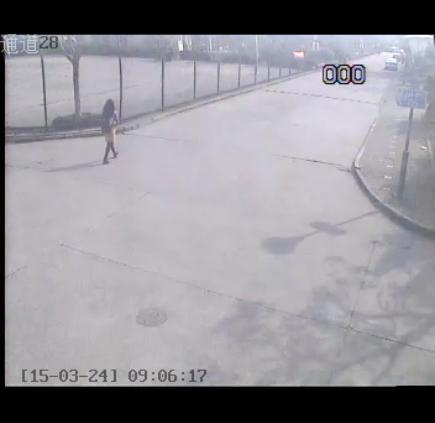person: (95, 92, 133, 173)
